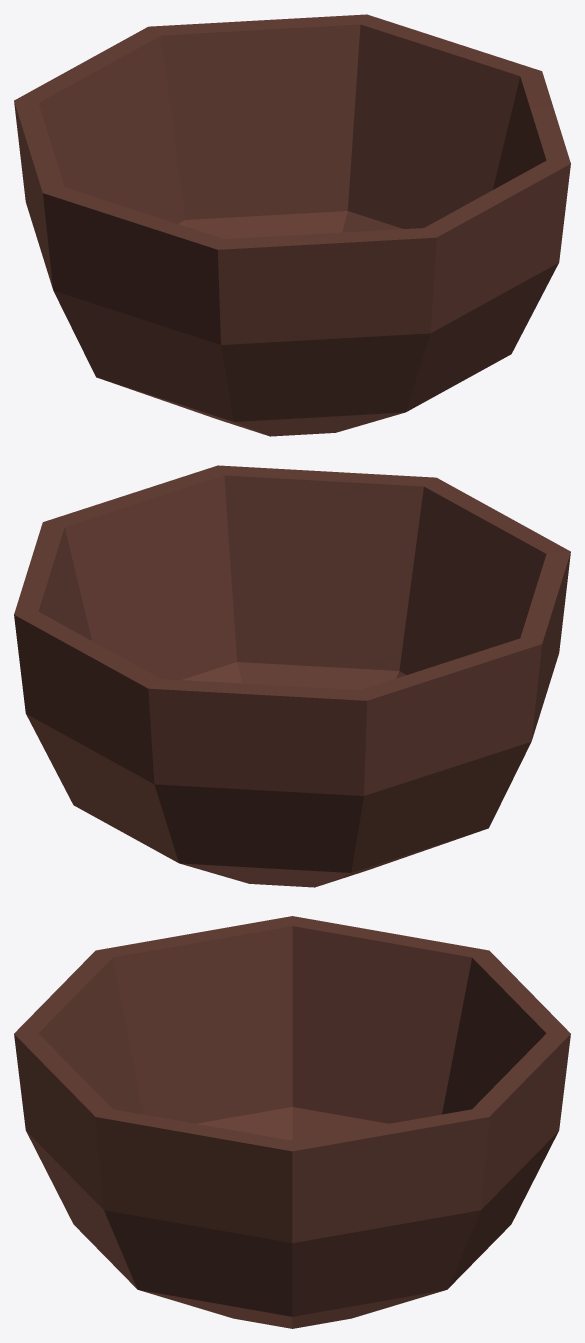
File: bowl.fbx
The picture shows the model from 3 angles, top to bottom: view 1: azimuth 30°, elevation 25°; view 2: azimuth 150°, elevation 25°; view 3: azimuth 270°, elevation 25°; orthographic projection. The views are drawn at different scales.
Parts seen in each view (by area): view 1: Poke_Bowl.001; view 2: Poke_Bowl.001; view 3: Poke_Bowl.001.
Part boxes in pixels (x1,y1,x2,y2): Poke_Bowl.001: (14, 14, 570, 436); Poke_Bowl.001: (14, 465, 570, 887); Poke_Bowl.001: (14, 916, 570, 1328).
Size of the model in its own units: 200 by 103 by 200.
